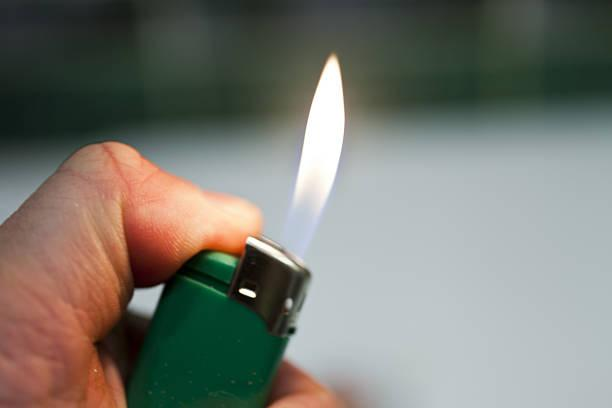Fire: (294, 44, 348, 212)
